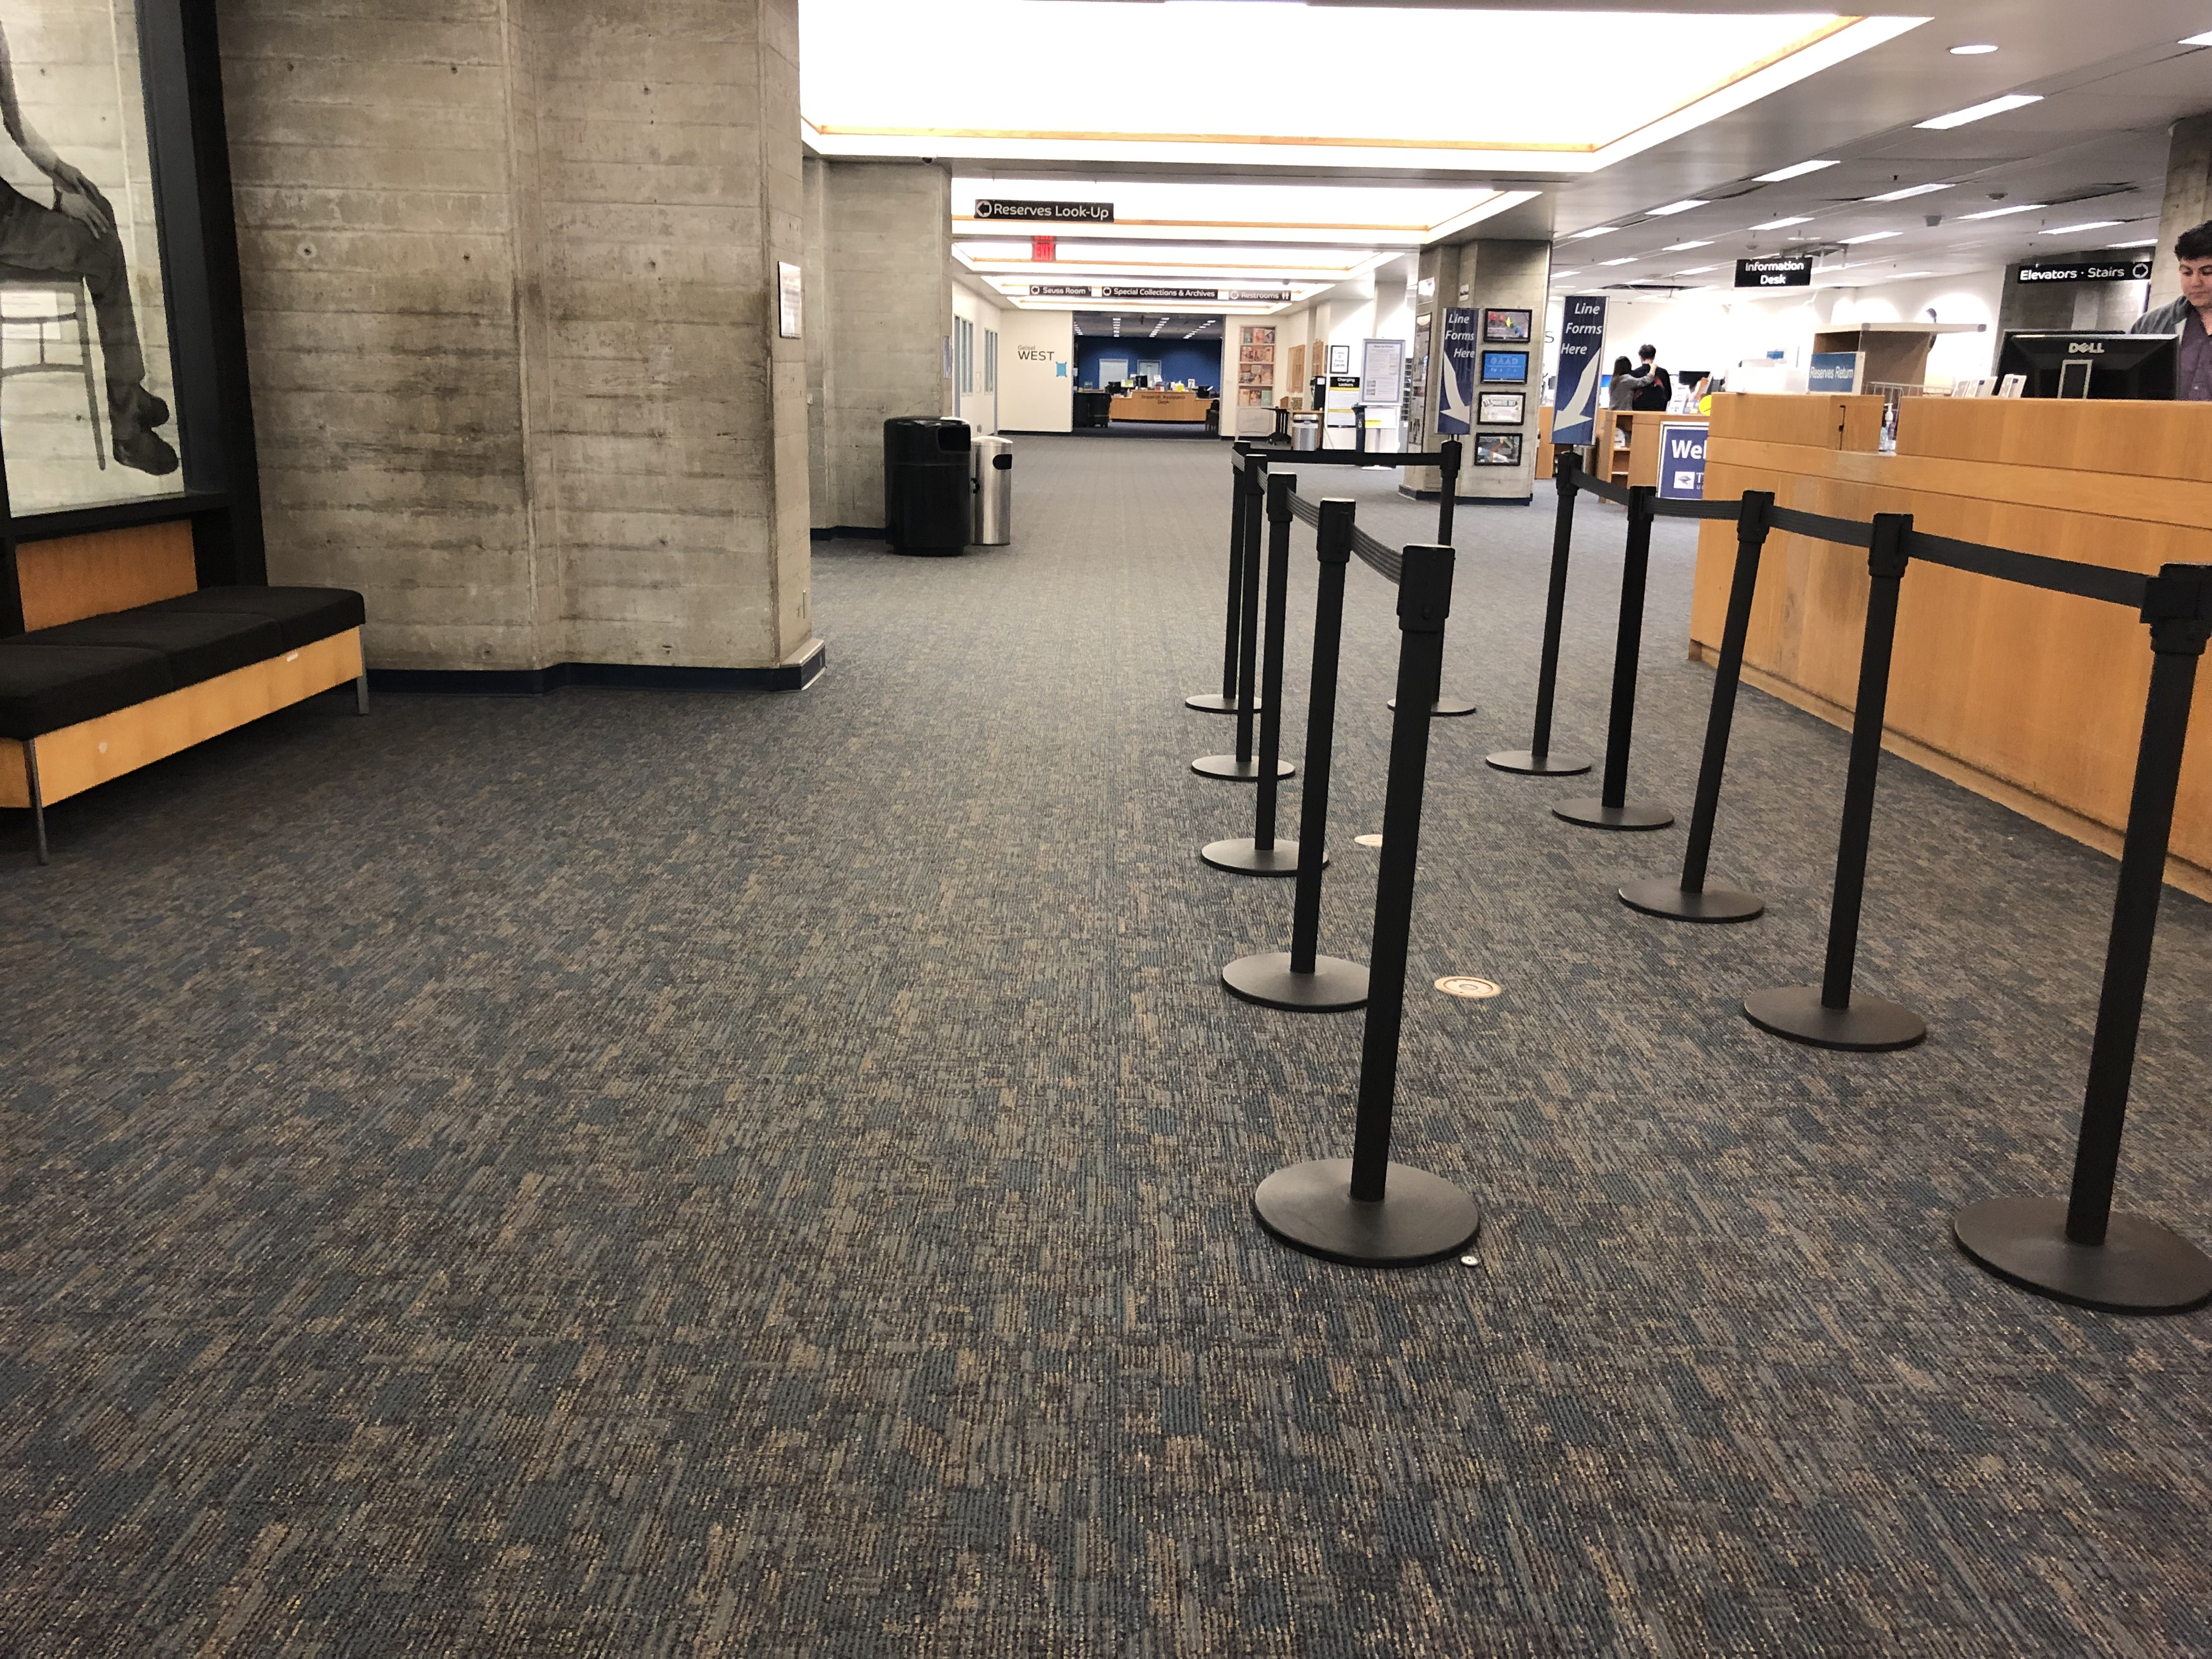Obstacle: (1555, 448, 2207, 1312), (225, 16, 834, 692), (1207, 420, 1550, 1290), (7, 540, 394, 868), (892, 410, 975, 551), (975, 425, 1017, 552)
